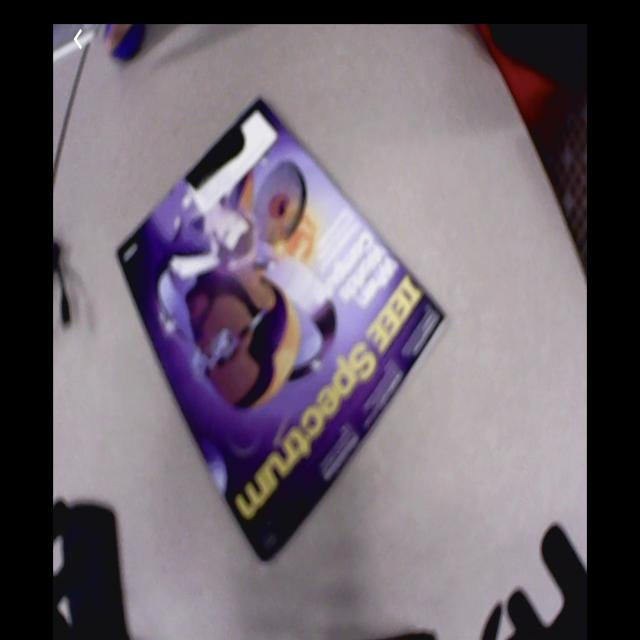ball: (106, 25, 146, 61)
